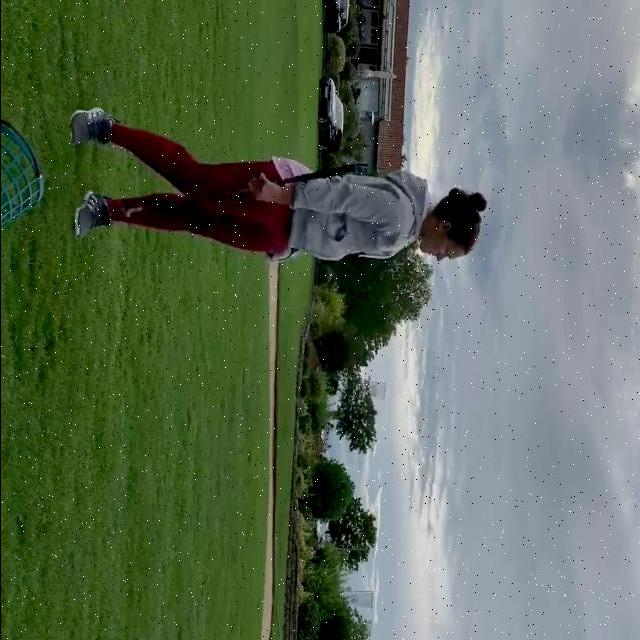ClubHandle: (123, 164, 358, 218)
ClubHead: (123, 205, 140, 217)
